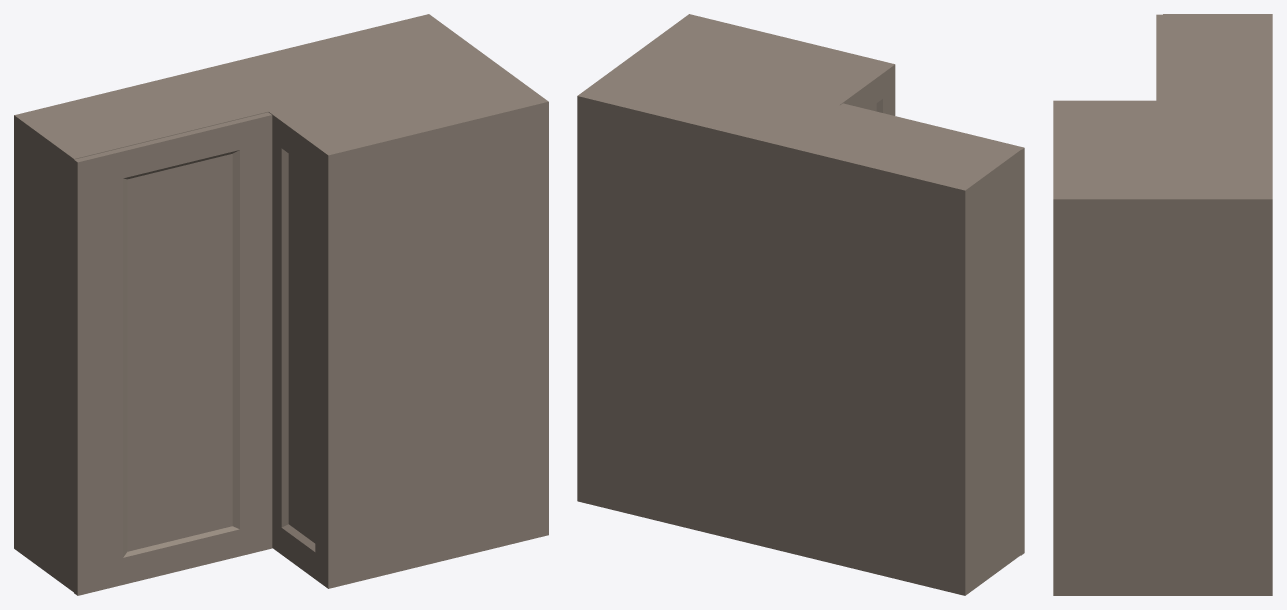
The model's file is Wall-Cabinet-Easy-Reach-12-Deep_std_001_H24in_onlyH.glb.
3 renders of one model, left to right at view 1: azimuth 30°, elevation 25°; view 2: azimuth 150°, elevation 25°; view 3: azimuth 270°, elevation 25°, orthographic. The views are drawn at different scales.
Parts seen in each view (by area): view 1: Wall-Cabinet-Easy-Reach-12-Deep.std.001_H24in_onlyH; view 2: Wall-Cabinet-Easy-Reach-12-Deep.std.001_H24in_onlyH; view 3: Wall-Cabinet-Easy-Reach-12-Deep.std.001_H24in_onlyH.
Boxes of the visible parts, box(x1,y1,x2,y2) form: Wall-Cabinet-Easy-Reach-12-Deep.std.001_H24in_onlyH: box(14, 14, 548, 595); Wall-Cabinet-Easy-Reach-12-Deep.std.001_H24in_onlyH: box(577, 14, 1024, 595); Wall-Cabinet-Easy-Reach-12-Deep.std.001_H24in_onlyH: box(1053, 14, 1272, 595).
Bounding box in the file's own units: 0.6096 × 0.6096 × 0.3048.
